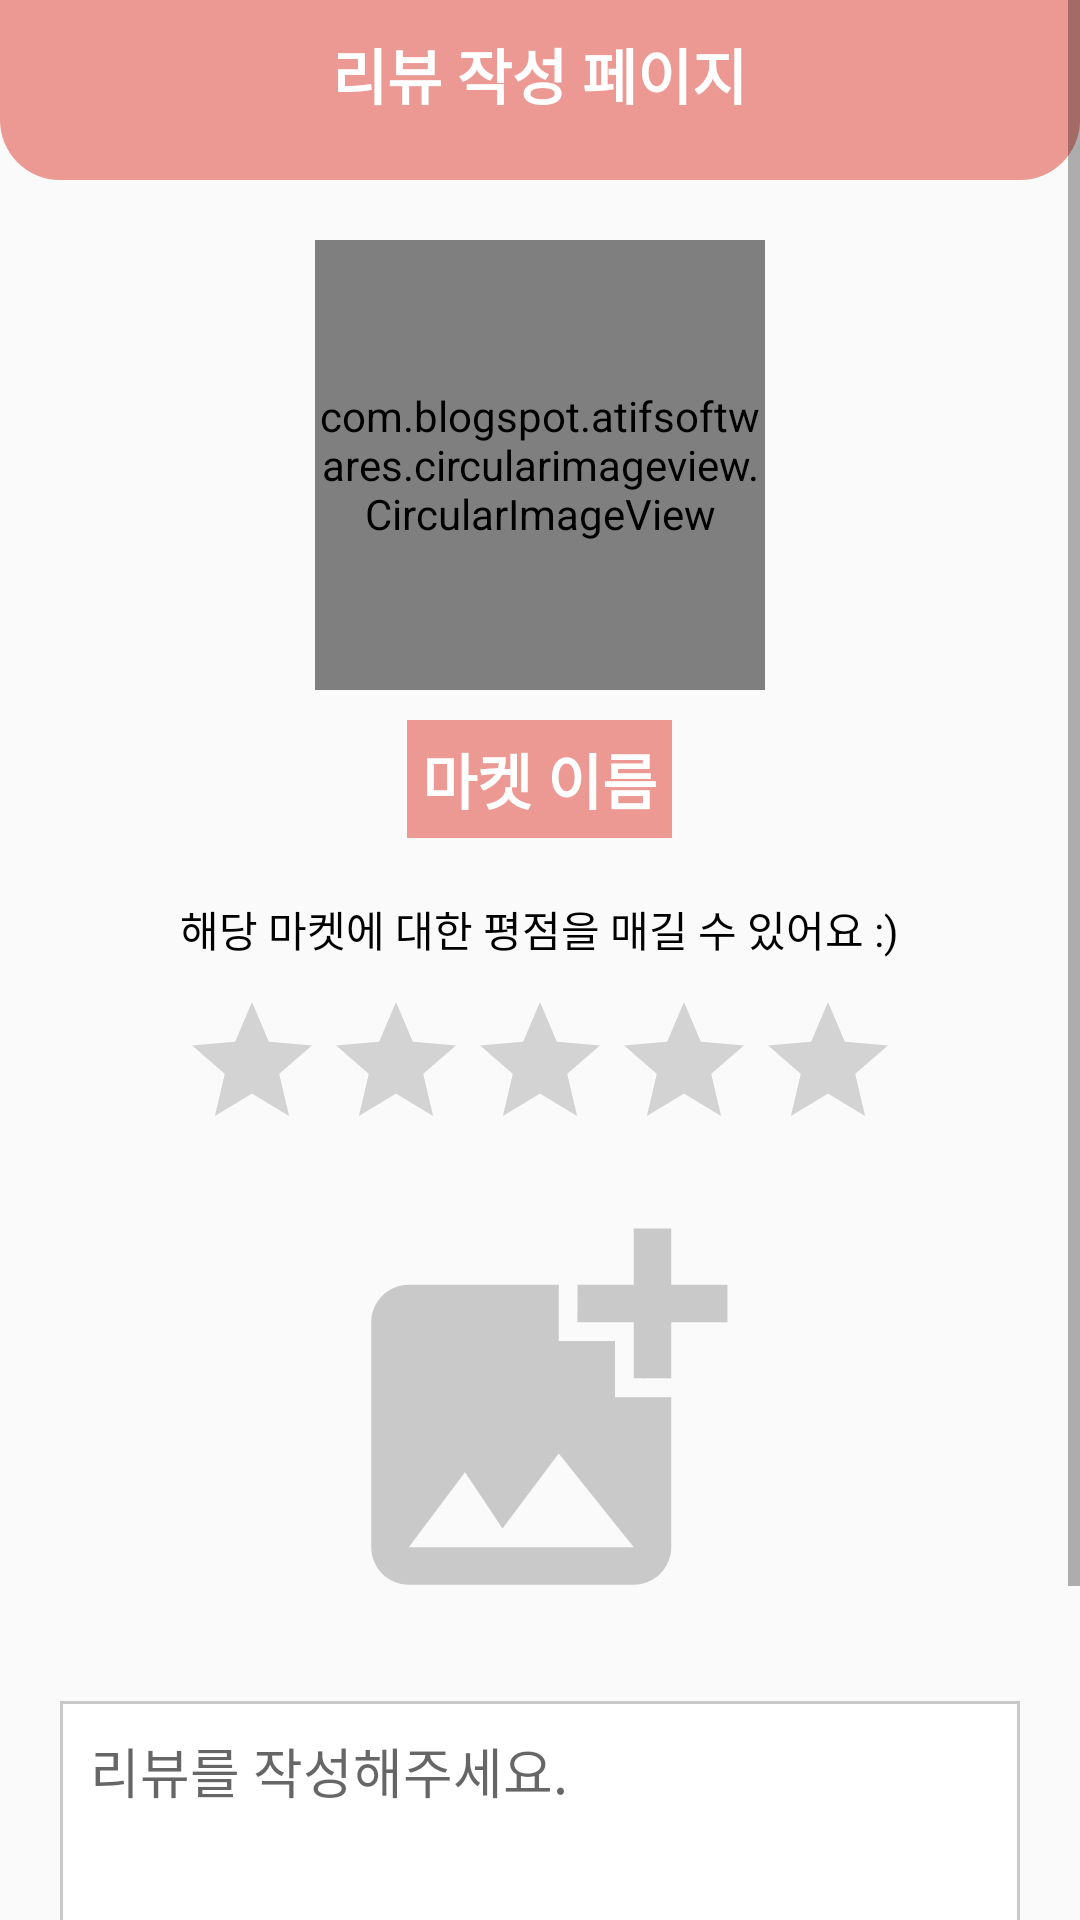

Named icons in this screenshot (1080*1920) and their centers, (x,y):
photo: (549,1407)
